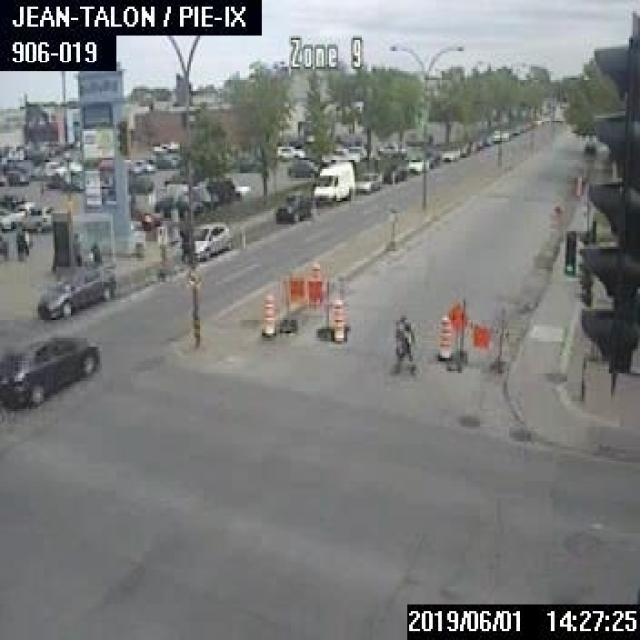construction: (276, 262, 348, 340), (442, 297, 506, 371), (259, 290, 275, 338), (329, 296, 346, 341), (436, 312, 452, 359)
pedestrian: (389, 310, 417, 374), (69, 231, 84, 271), (85, 236, 102, 264), (176, 225, 187, 264), (15, 229, 28, 259)
vehicle: (0, 333, 98, 409), (36, 264, 116, 320), (192, 216, 235, 262), (312, 159, 354, 201), (275, 189, 314, 222), (153, 193, 203, 215), (18, 205, 54, 229), (178, 185, 216, 205), (286, 157, 318, 175), (354, 171, 379, 192), (382, 161, 406, 181), (376, 141, 406, 157), (274, 144, 303, 160), (11, 201, 34, 220), (128, 173, 152, 190), (40, 159, 65, 175), (0, 191, 24, 207), (403, 131, 428, 145), (156, 152, 180, 166), (163, 170, 186, 184), (239, 156, 262, 170), (0, 208, 16, 228), (405, 157, 427, 171), (422, 147, 439, 165), (6, 169, 27, 183), (582, 138, 596, 158), (347, 146, 367, 160), (124, 158, 141, 173), (151, 142, 175, 152), (136, 159, 155, 171), (453, 140, 469, 154), (328, 148, 345, 160), (0, 231, 7, 260), (440, 148, 457, 158)
